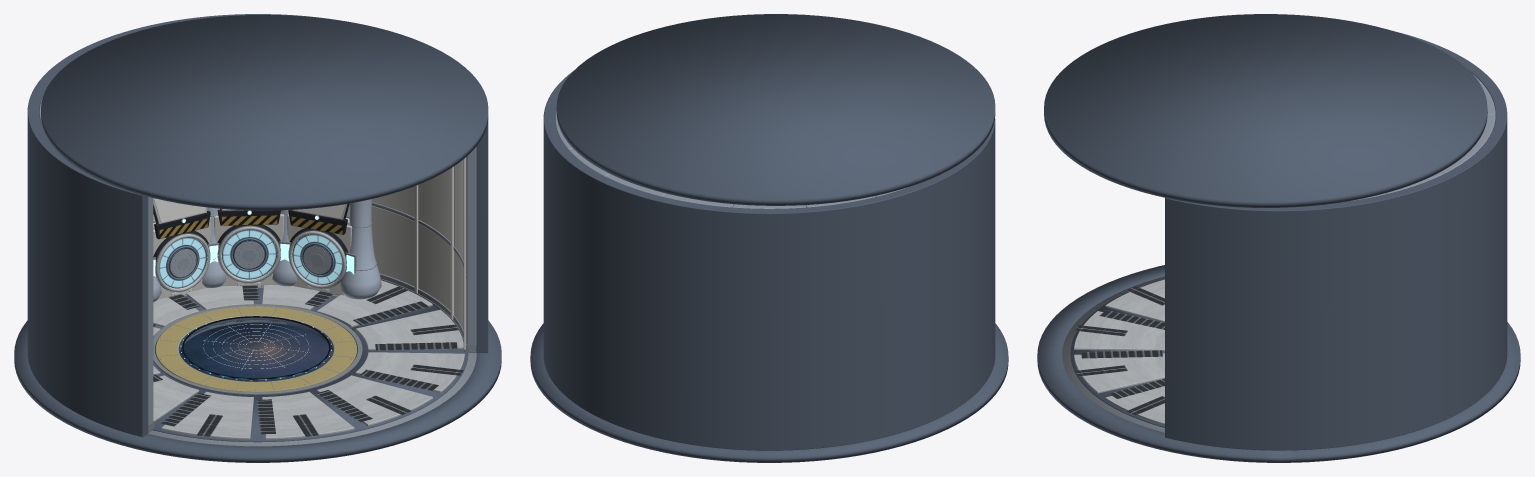
File: teleport_room.glb
The picture shows the model from 3 angles, left to right: view 1: azimuth 30°, elevation 25°; view 2: azimuth 150°, elevation 25°; view 3: azimuth 270°, elevation 25°; orthographic projection.
Visible parts, largest first — view 1: ceiling, backdrop_shell, backdrop_floor, pad_glass, pad_starfield, pad_brass_band, floor_under, wall_arc_02_panel_low, col_0_body, floor_plate_07, floor_plate_08, floor_plate_09 (+40 smaller); view 2: backdrop_shell, ceiling, backdrop_floor; view 3: backdrop_shell, ceiling, backdrop_floor, floor_plate_08, floor_plate_09, floor_base, floor_plate_07, floor_under, floor_plate_10, floor_vent_09, floor_vent_08.
Part boxes in pixels (x1,y1,x2,y2): ceiling: (41,15,488,210); backdrop_shell: (27,14,488,437); backdrop_floor: (14,320,501,462); pad_glass: (179,317,333,381); pad_starfield: (180,322,332,381); pad_brass_band: (155,306,357,391); floor_under: (152,288,468,442); wall_arc_02_panel_low: (371,206,414,286); col_0_body: (339,199,381,299); floor_plate_07: (161,391,253,439); floor_plate_08: (262,391,354,439); floor_plate_09: (316,375,433,425); backdrop_shell: (543,71,995,450); ceiling: (556,14,995,205); backdrop_floor: (530,323,1008,462); backdrop_shell: (1165,31,1507,450); ceiling: (1044,14,1487,207); backdrop_floor: (1037,265,1520,462); floor_plate_08: (1074,311,1164,351); floor_plate_09: (1074,353,1164,393); floor_base: (1062,276,1164,432); floor_plate_07: (1105,279,1164,322); floor_under: (1070,279,1164,427); floor_plate_10: (1105,386,1164,424); floor_vent_09: (1081,350,1162,358); floor_vent_08: (1099,310,1164,329).
Bounding box in the file's own units: 14.6 × 8.61 × 14.6.
Materials: 26 (7 with a texture image).
